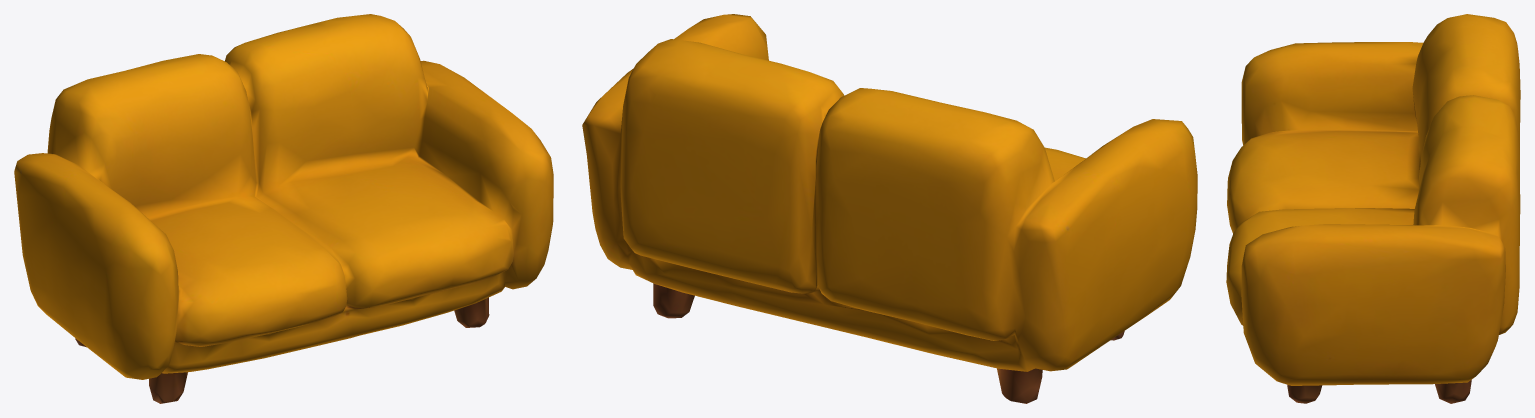
The model's file is canape.glb.
The picture shows the model from 3 angles, left to right: view 1: azimuth 30°, elevation 25°; view 2: azimuth 150°, elevation 25°; view 3: azimuth 270°, elevation 25°; orthographic projection. The views are drawn at different scales.
Visible parts, largest first — view 1: canape; view 2: canape; view 3: canape.
Boxes of the visible parts, left/top/right/bottom form: canape: left=14, top=14, right=553, bottom=403; canape: left=582, top=14, right=1197, bottom=403; canape: left=1226, top=14, right=1520, bottom=403.
Bounding box in the file's own units: 0.2847 × 0.1525 × 0.1672.
Materials: 1 (1 with a texture image).
